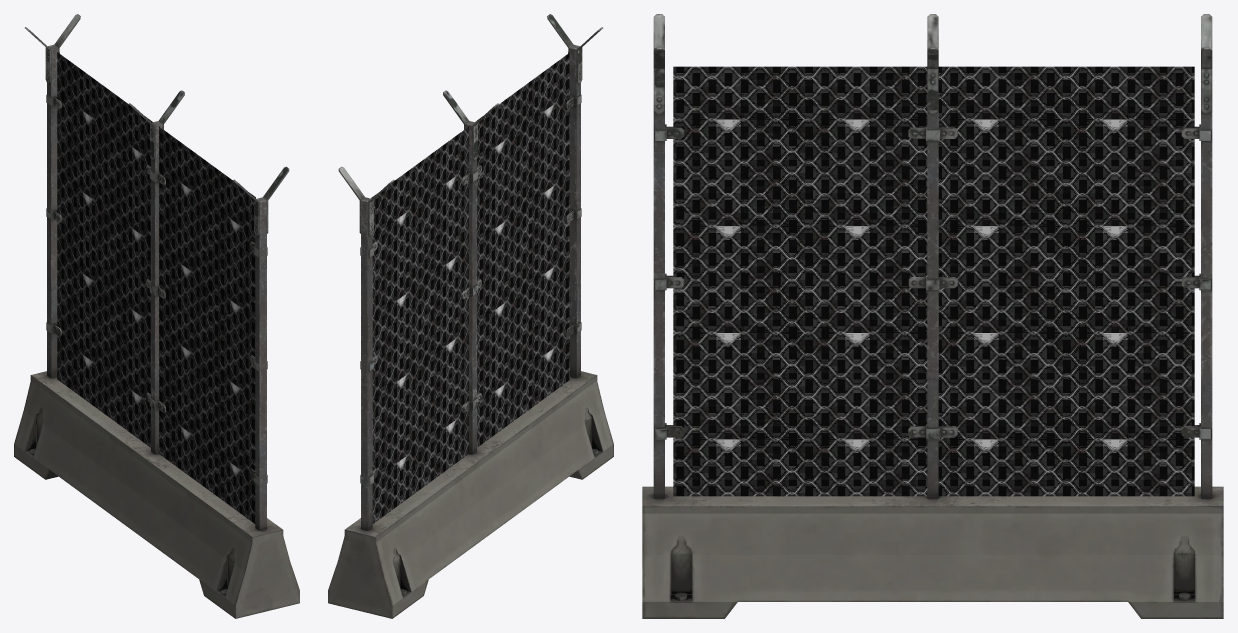
The model's file is barbed-fence--1.gltf.
3 views of the same model, side by side, from view 1: azimuth 30°, elevation 25°; view 2: azimuth 150°, elevation 25°; view 3: azimuth 270°, elevation 25° (orthographic). The views are drawn at different scales.
Parts seen in each view (by area): view 1: Cube.031; view 2: Cube.031; view 3: Cube.031.
Part boxes in pixels (x1,y1,x2,y2): Cube.031: (14, 14, 299, 618); Cube.031: (328, 14, 613, 618); Cube.031: (642, 14, 1223, 618).
Size of the model in its own units: 0.3891 by 2.5 by 2.32.
2 materials, 2 textured.
